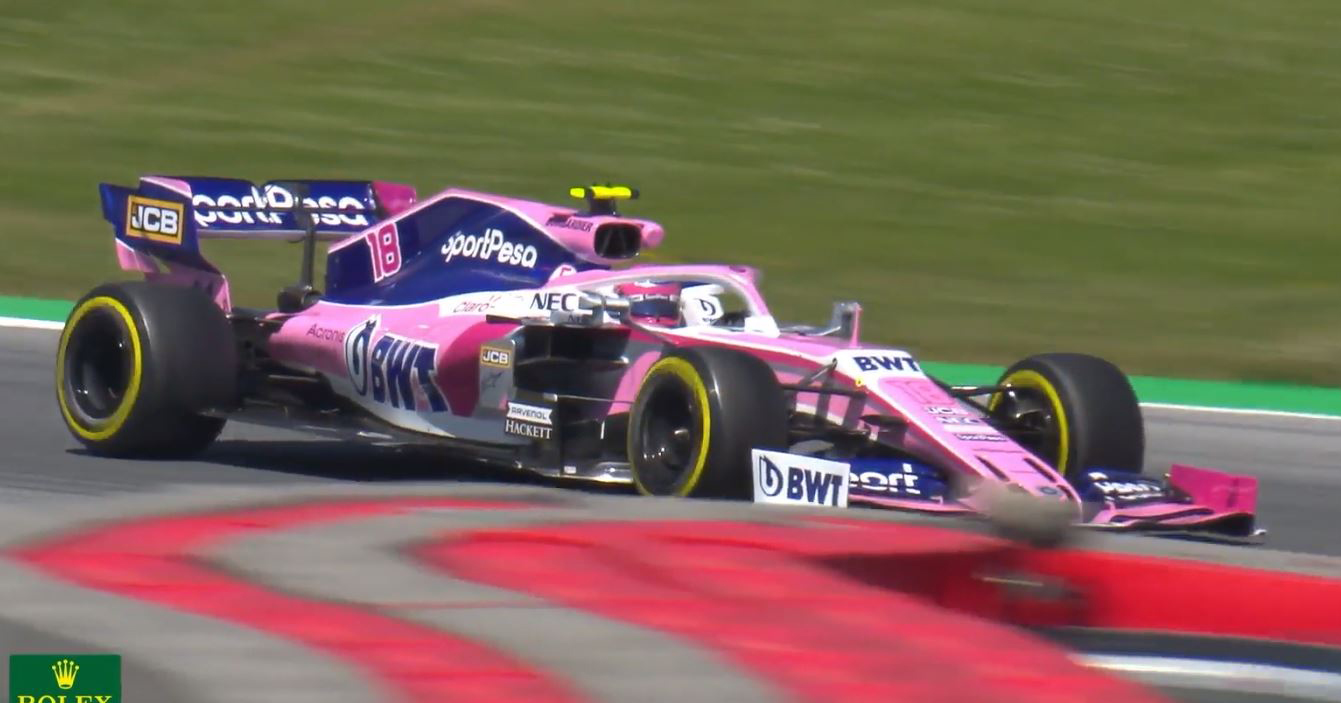F1 Car: (50, 160, 1280, 550)
